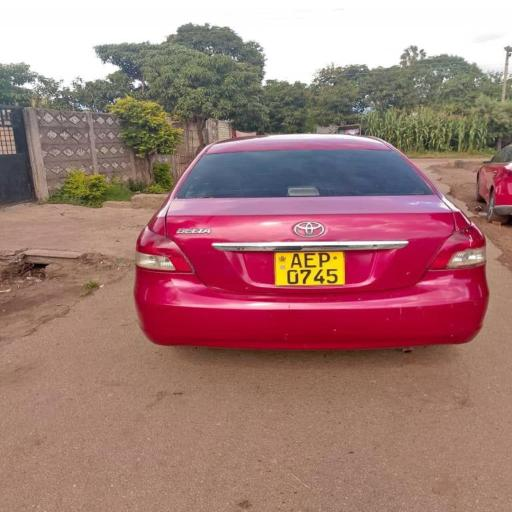number-plates: (275, 252, 348, 286)
